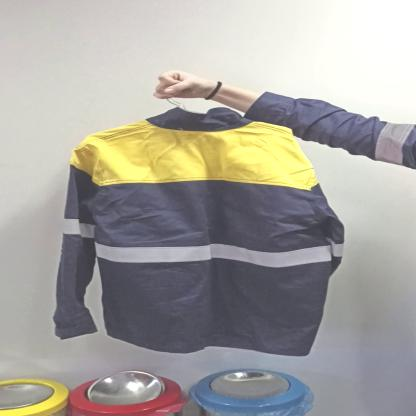C_eletrica: (52, 114, 346, 355)
